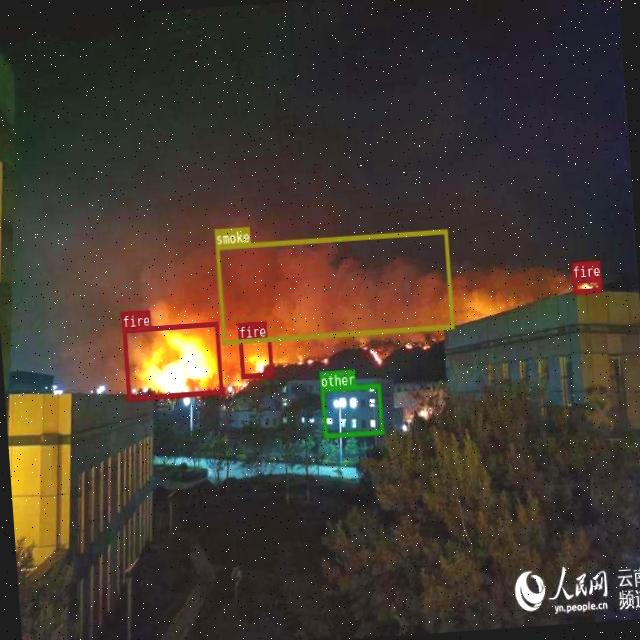fire: (122, 322, 222, 399), (238, 336, 272, 378), (572, 276, 600, 293)
smoke: (215, 228, 453, 344)
